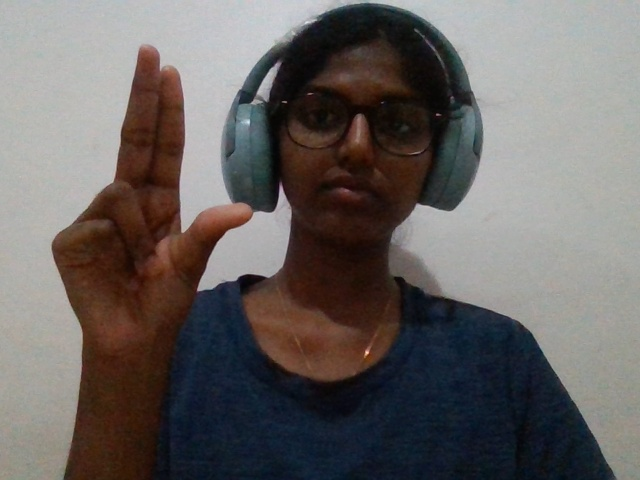No: (39, 27, 278, 345)
